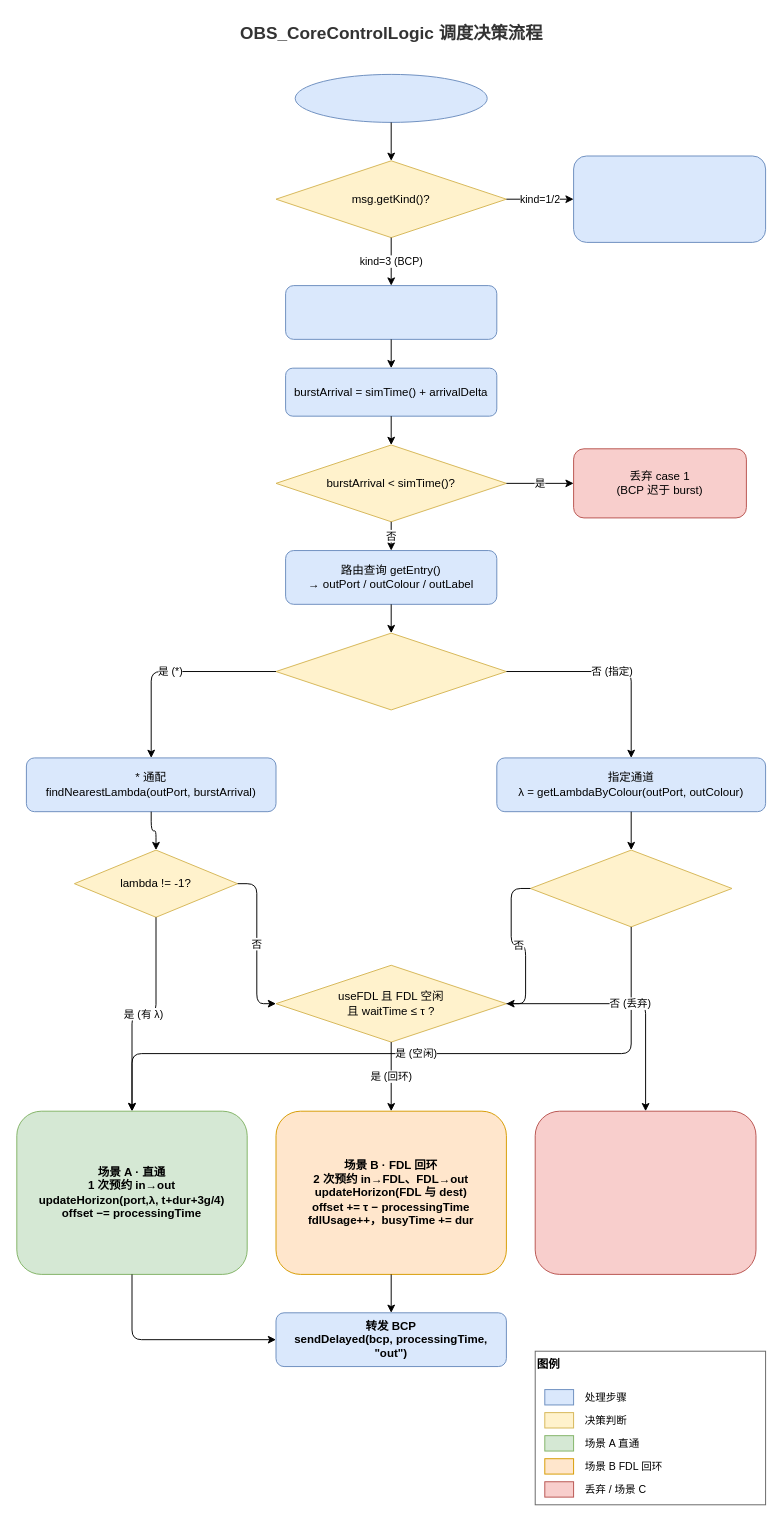
Some shapes in this 782 by 1522 pixel diagram are drawn without their labels. The box of each missing label's shape, as (x1, y1, x2, y2) in pixels:
handleMessage(msg): (294, 73, 487, 122)
horizon(outPort,λ) ≤ burstArrival?: (529, 849, 732, 927)
outColour == -9 (*)?: (275, 632, 506, 710)
OXC 自动消息 kind=1 → setGate kind=2 → unsetGate: (573, 155, 766, 242)
场景 C · 丢弃 delete BCP dropCounter++ burstLossContention++: (534, 1110, 756, 1274)
提取 BCP 字段 (colour, port, Δ, len, label): (285, 285, 497, 339)
